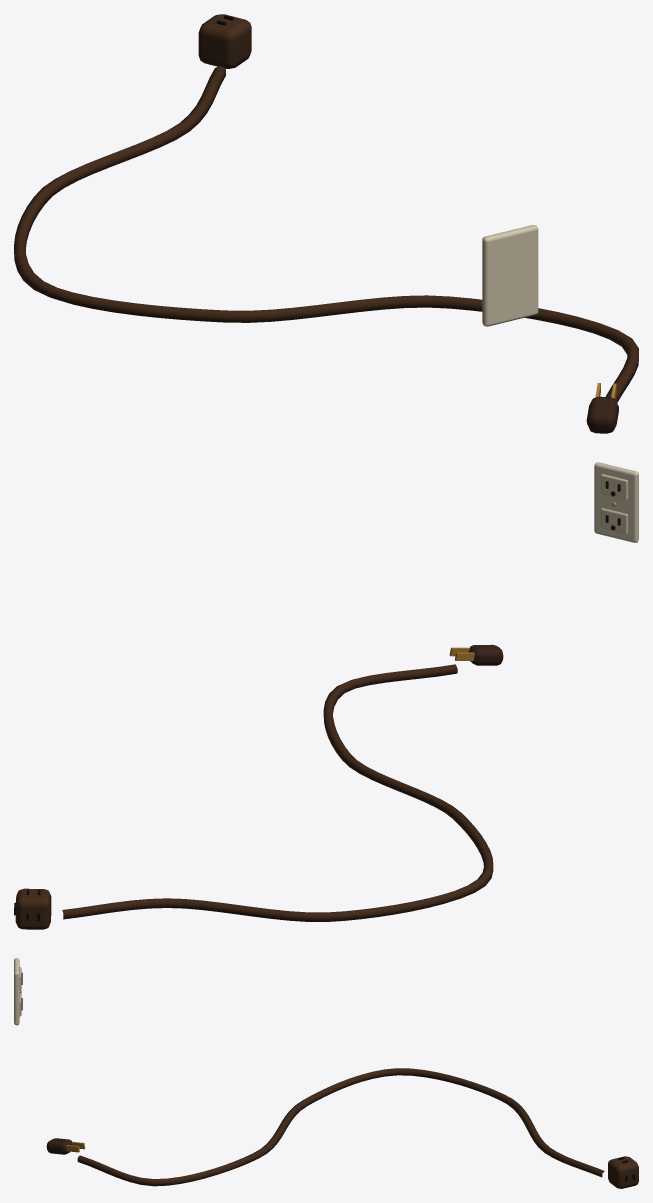
Rendered from telly_cord__254.glb.
3 views of the same model, one above another, from view 1: azimuth 30°, elevation 25°; view 2: azimuth 150°, elevation 25°; view 3: azimuth 270°, elevation 25° (orthographic). The views are drawn at different scales.
Parts seen in each view (by area): view 1: merged_toon_ffffff; view 2: merged_toon_ffffff; view 3: merged_toon_ffffff.
Part boxes in pixels (x1=…): merged_toon_ffffff: x1=14, y1=14, x2=638, y2=433; merged_toon_ffffff: x1=14, y1=462, x2=638, y2=929; merged_toon_ffffff: x1=14, y1=958, x2=638, y2=1188.
Size of the model in its own units: 0.5906 by 0.3625 by 1.33.
